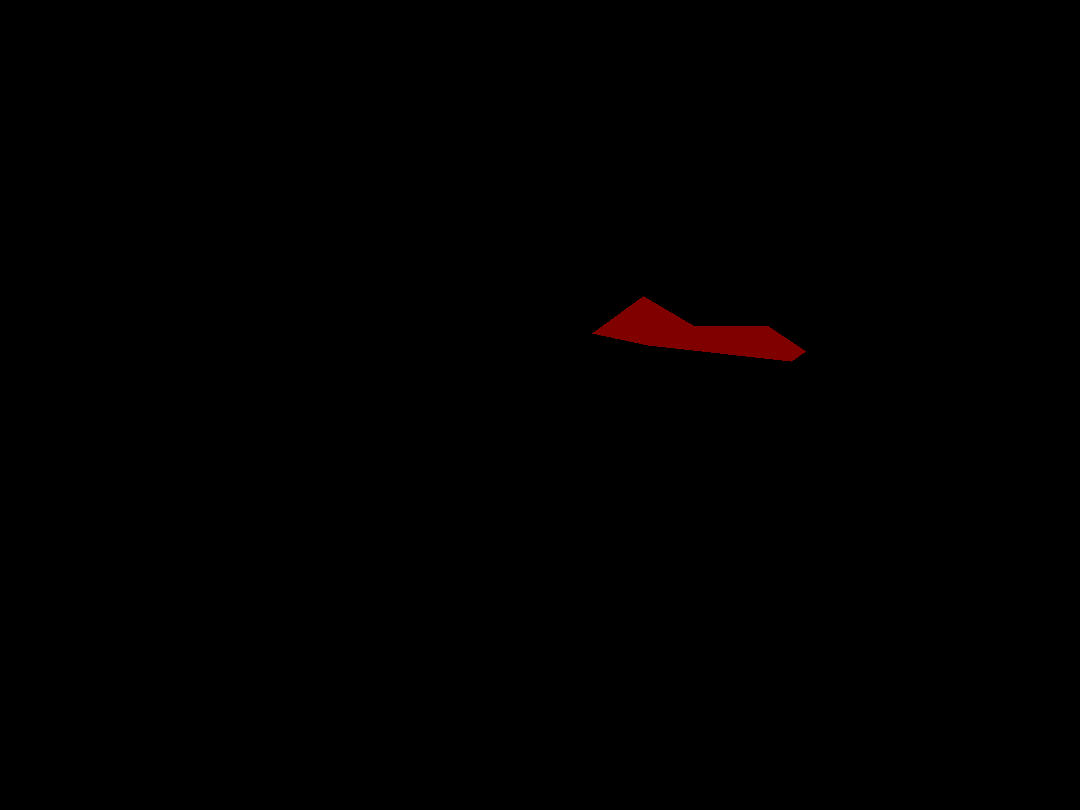fire: (592, 296, 805, 361)
